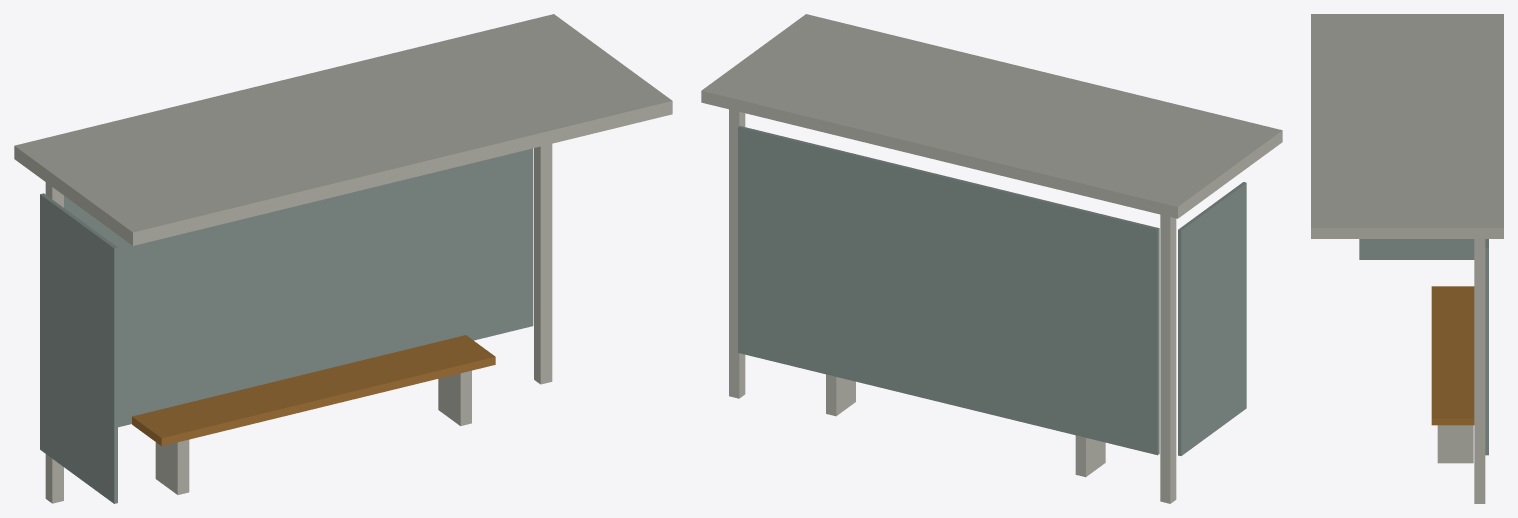
File: SM_ParadaBus_v0_Entera_LOD0.fbx
3 views of the same model, side by side, from view 1: azimuth 30°, elevation 25°; view 2: azimuth 150°, elevation 25°; view 3: azimuth 270°, elevation 25° (orthographic). The views are drawn at different scales.
Parts seen in each view (by area): view 1: SM_urbano_extra_v5_LOD0; view 2: SM_urbano_extra_v5_LOD0; view 3: SM_urbano_extra_v5_LOD0.
Part boxes in pixels (box(x1,y1,x2,y2)): SM_urbano_extra_v5_LOD0: box(14, 14, 672, 503); SM_urbano_extra_v5_LOD0: box(701, 14, 1282, 503); SM_urbano_extra_v5_LOD0: box(1311, 14, 1503, 503).
Size of the model in its own units: 4.2 by 2.6 by 1.6.
